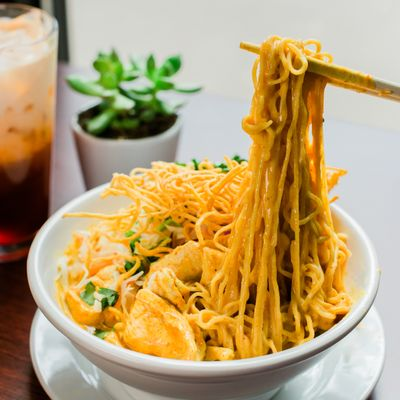curry: (80, 282, 118, 310)
sushi: (20, 107, 382, 400)
